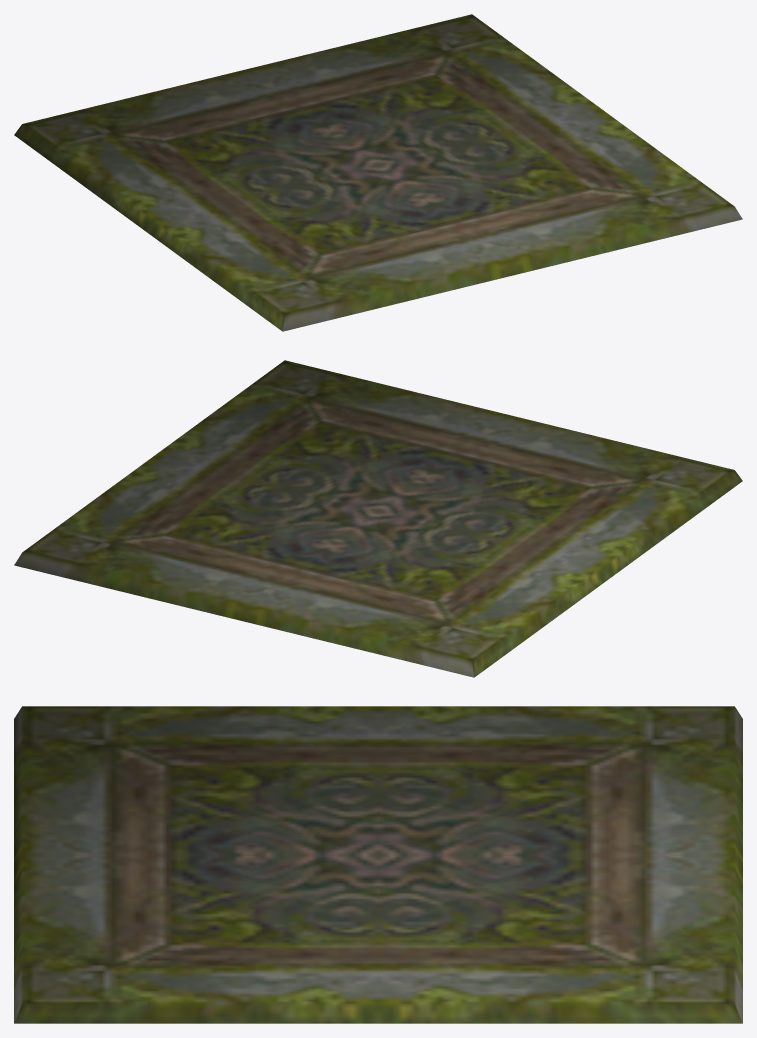
File: S2_Build_XSC068.FBX
3 views of the same model, one above another, from view 1: azimuth 30°, elevation 25°; view 2: azimuth 150°, elevation 25°; view 3: azimuth 270°, elevation 25° (orthographic). The views are drawn at different scales.
Visible parts, largest first — view 1: S2_Build_XSC068; view 2: S2_Build_XSC068; view 3: S2_Build_XSC068.
Boxes of the visible parts, x1,y1,x2,y2 form: S2_Build_XSC068: [14, 14, 742, 331]; S2_Build_XSC068: [14, 360, 742, 677]; S2_Build_XSC068: [14, 706, 742, 1023].
Bounding box in the file's own units: 24.73 × 0.6166 × 25.
